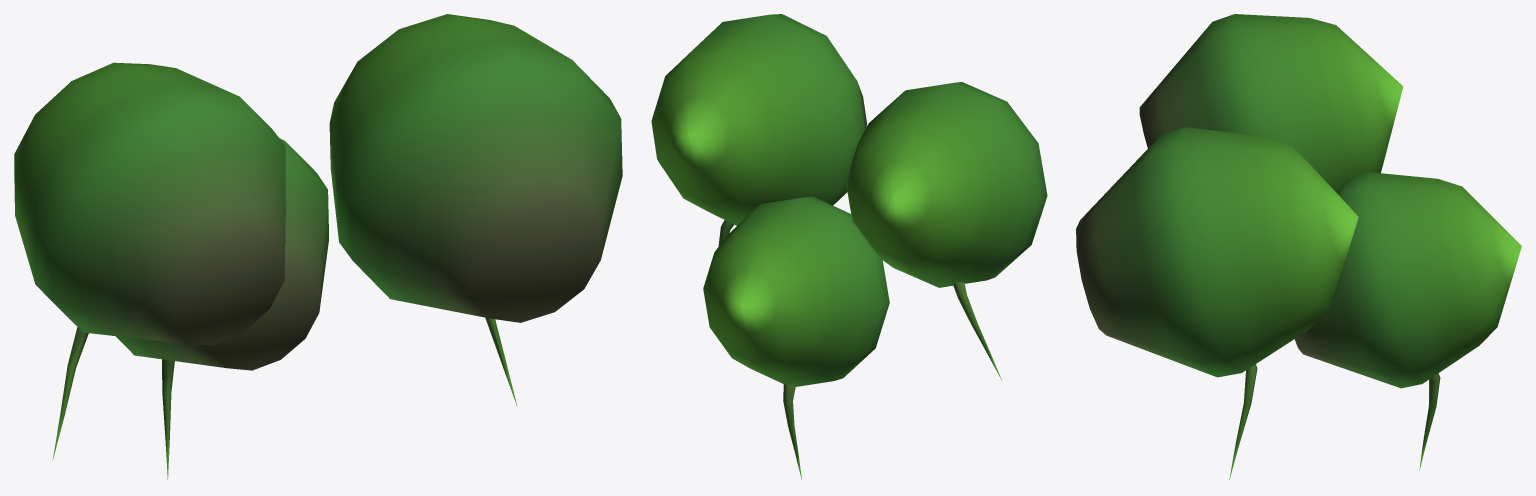
File: undead_parasite_parts.glb
3 renders of one model, left to right at view 1: azimuth 30°, elevation 25°; view 2: azimuth 150°, elevation 25°; view 3: azimuth 270°, elevation 25°, orthographic. The views are drawn at different scales.
Parts seen in each view (by area): view 1: r0_CC_Base_Spine02; view 2: r0_CC_Base_Spine02; view 3: r0_CC_Base_Spine02.
Part boxes in pixels (x1=…): r0_CC_Base_Spine02: x1=14, y1=14, x2=622, y2=479; r0_CC_Base_Spine02: x1=651, y1=14, x2=1047, y2=479; r0_CC_Base_Spine02: x1=1076, y1=14, x2=1521, y2=479.
Bounding box in the file's own units: 0.5869 × 0.5088 × 0.5088.
